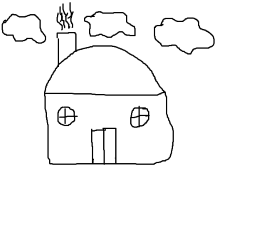closed_window: (123, 104, 152, 131), (51, 104, 82, 128)
clouds: (150, 13, 220, 63), (80, 5, 137, 42), (0, 10, 50, 48)
door: (87, 120, 122, 169)
roof: (31, 42, 169, 98)
smoking_chimney: (51, 1, 83, 70)
wall: (40, 89, 178, 169)
